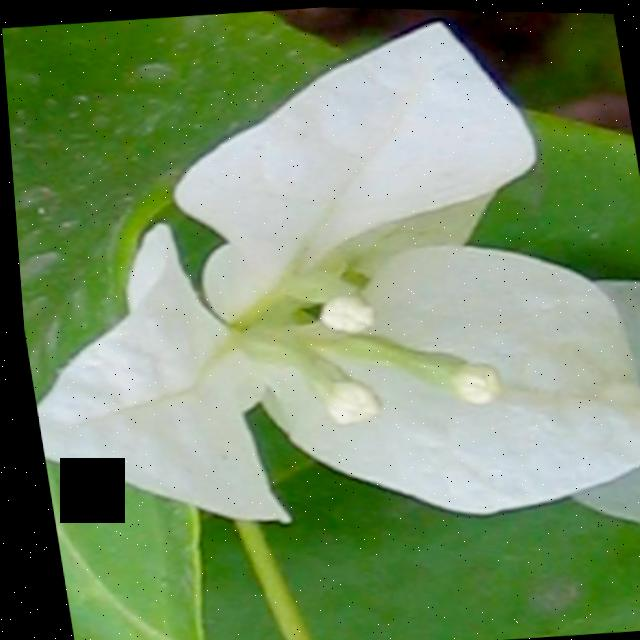bougainvillea: (0, 0, 640, 595)
